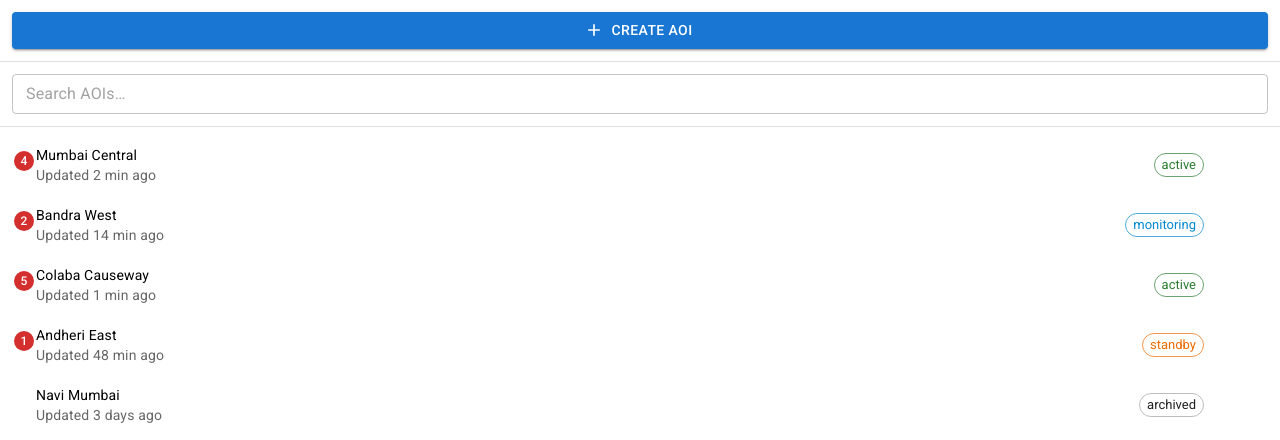
Test: AOISidebar › filters AOIs when search input changes
In the field with placeholder "Search AOIs…": (640, 94) left=12, top=74, right=1268, bottom=114, type "bandra"
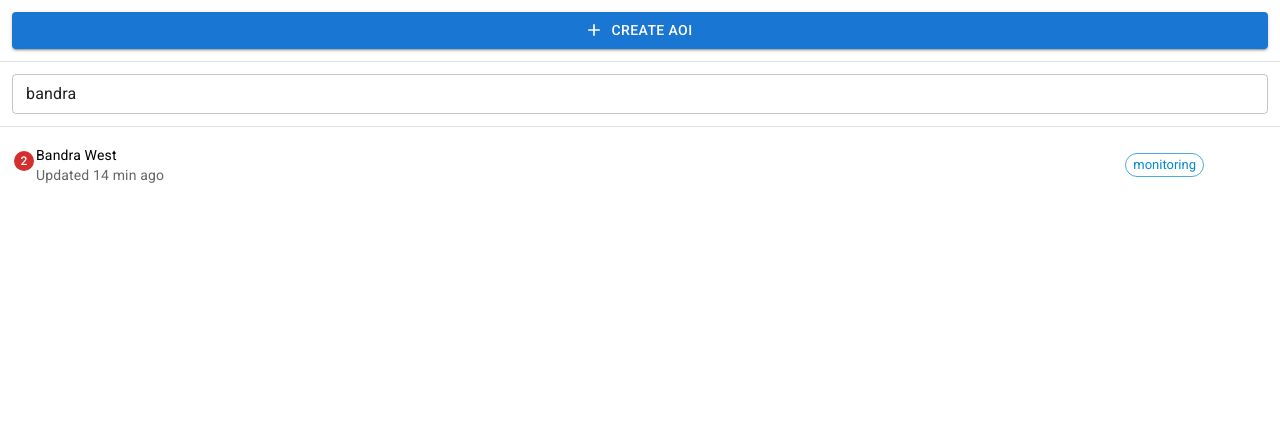
Expected: the text "Bandra West" is shown, left=36, top=146, right=117, bottom=162
Now the button "Mumbai Central" is gone
